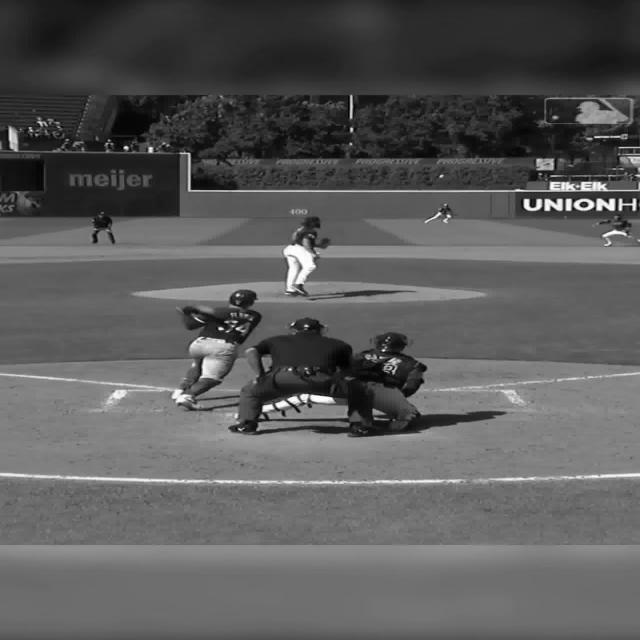baseball: (438, 174, 444, 178)
baseball_glove: (314, 238, 330, 248)
shoe: (388, 410, 420, 431), (174, 394, 204, 410), (228, 420, 258, 434), (346, 422, 369, 438), (388, 418, 410, 431), (292, 284, 308, 295), (170, 389, 184, 400), (284, 290, 302, 296)
